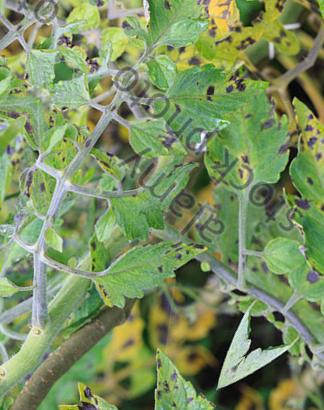Tomato Early blight leaf: (78, 199, 209, 333), (143, 35, 269, 162), (240, 94, 324, 243), (109, 340, 217, 410), (119, 0, 230, 62)
